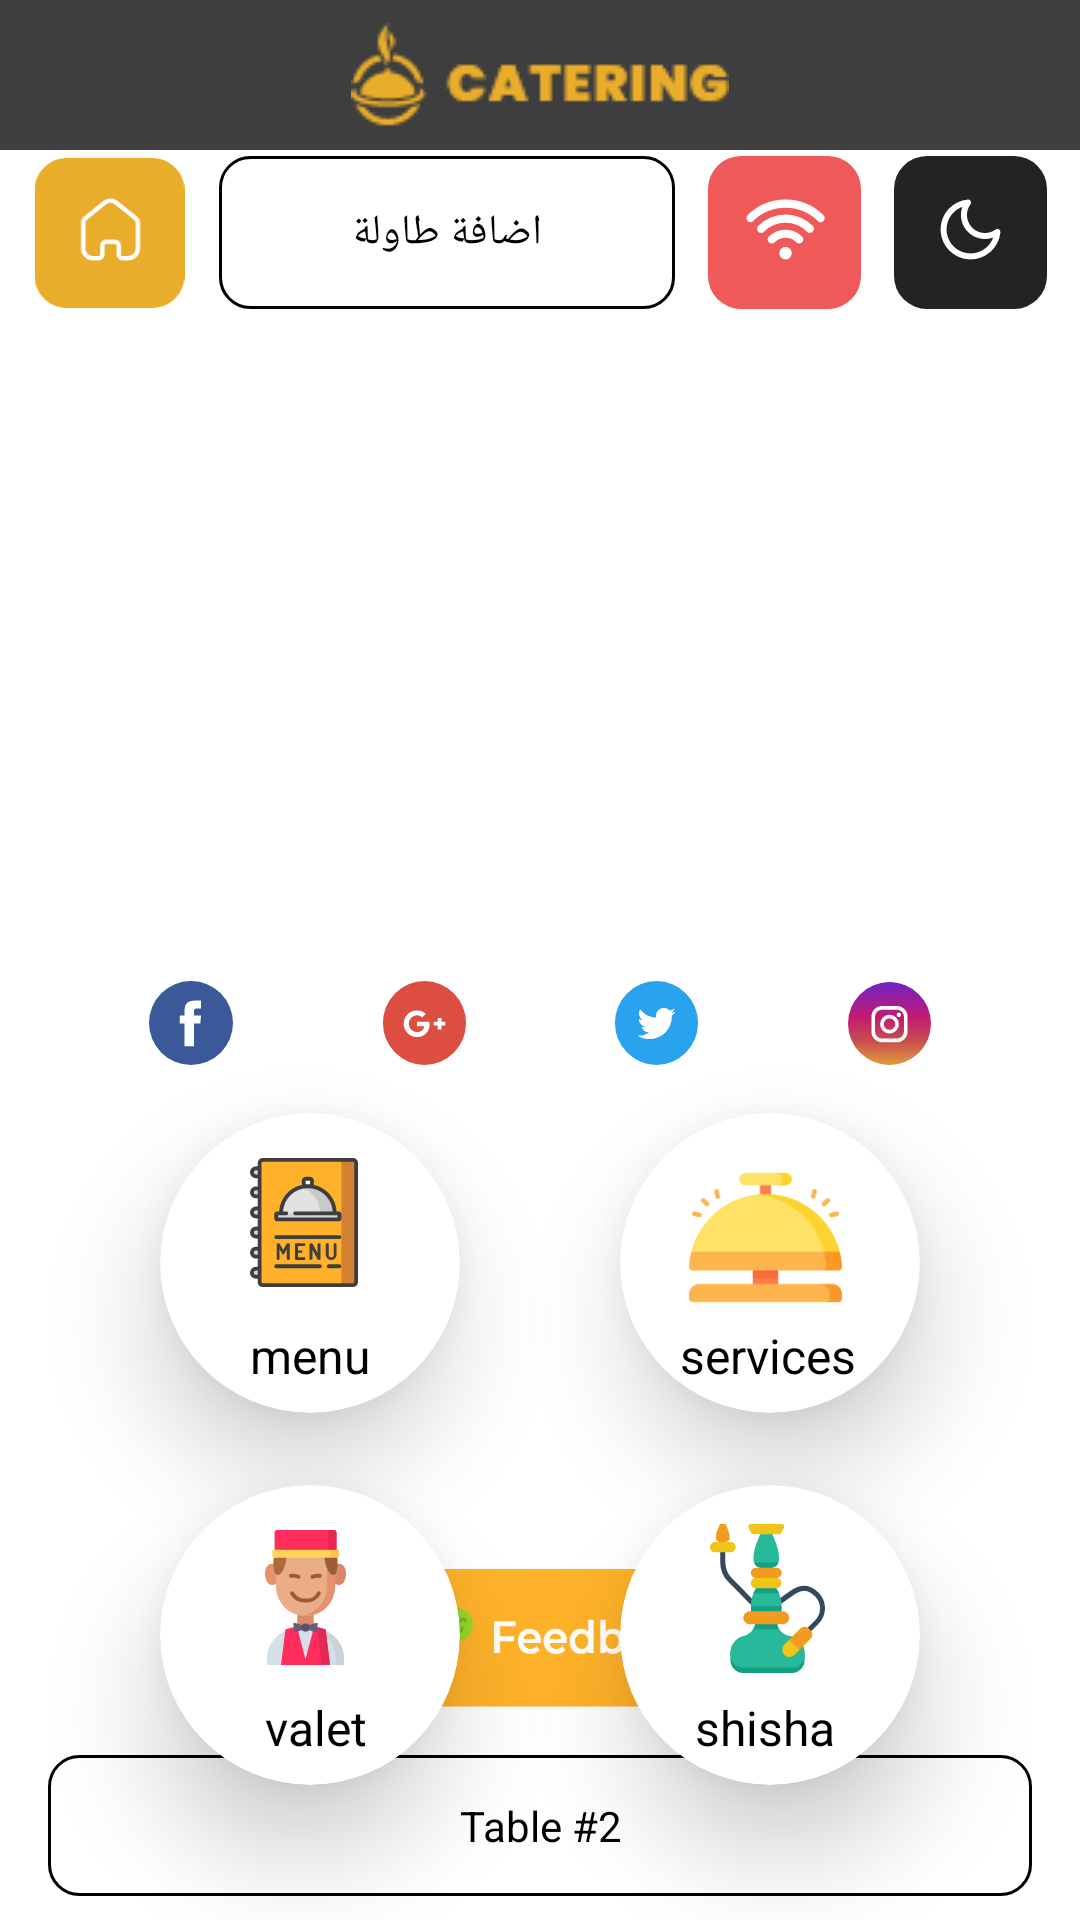

Screen size 1080 x 1920. Icon name, then its center in pixels as [x,y]:
bell: [765,1258]
homw: [110,233]
wifi: [784,232]
